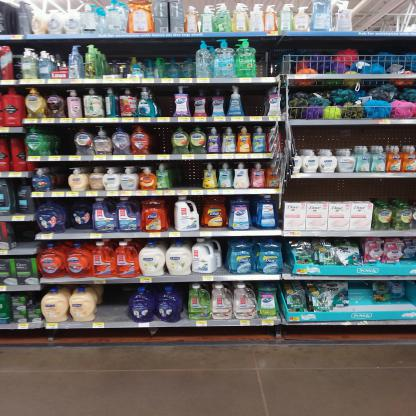Void: (289, 180, 408, 200), (300, 128, 408, 144), (107, 42, 190, 56), (98, 287, 128, 320), (169, 164, 199, 194), (246, 86, 269, 114), (56, 130, 74, 159), (15, 228, 35, 250), (158, 91, 173, 113)
